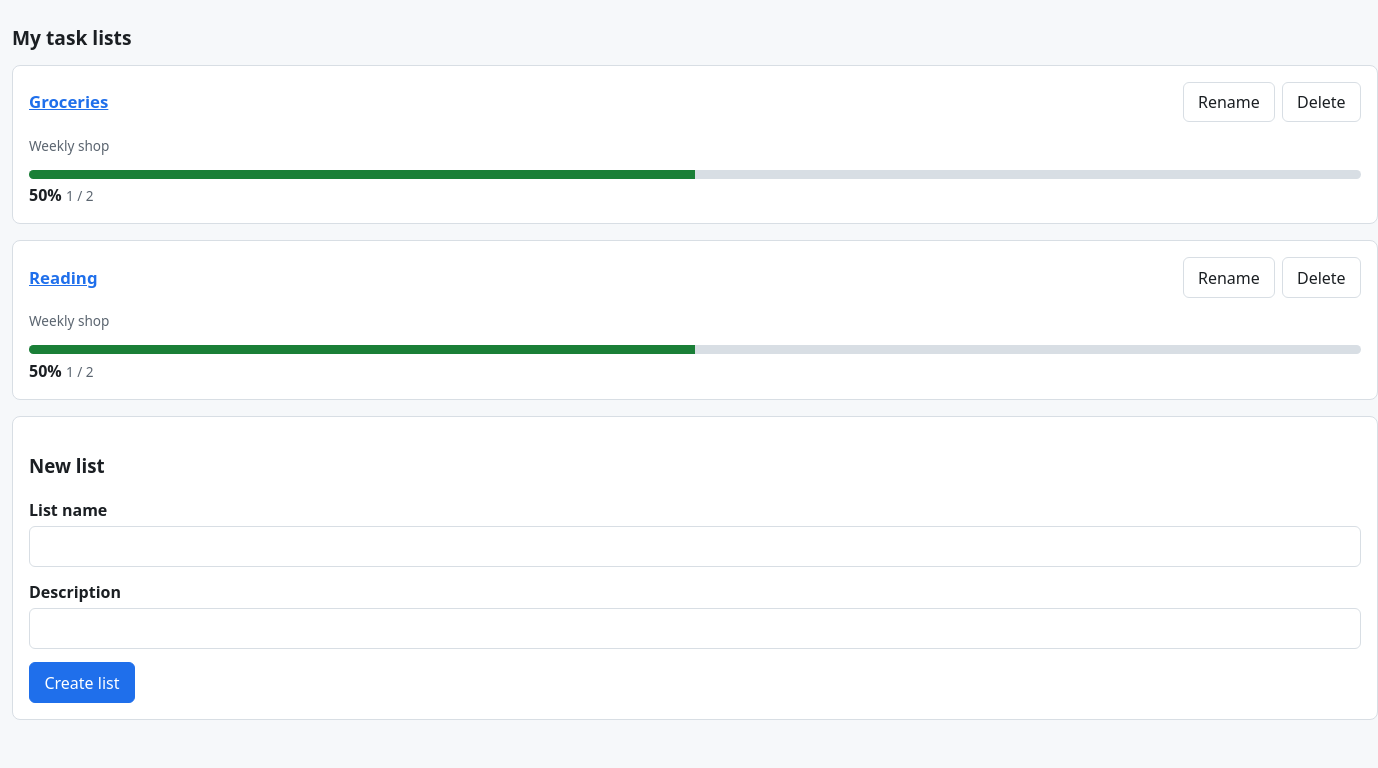
deleting a list › asks first, then deletes that id and drops the row
This screenshot has width=1378, height=768.
What coordinates should you click on to do the following:
click the button with aria-label "Delete Reading"
I would click on:
 (1321, 278)
Its box is left=1282, top=257, right=1361, bottom=298.
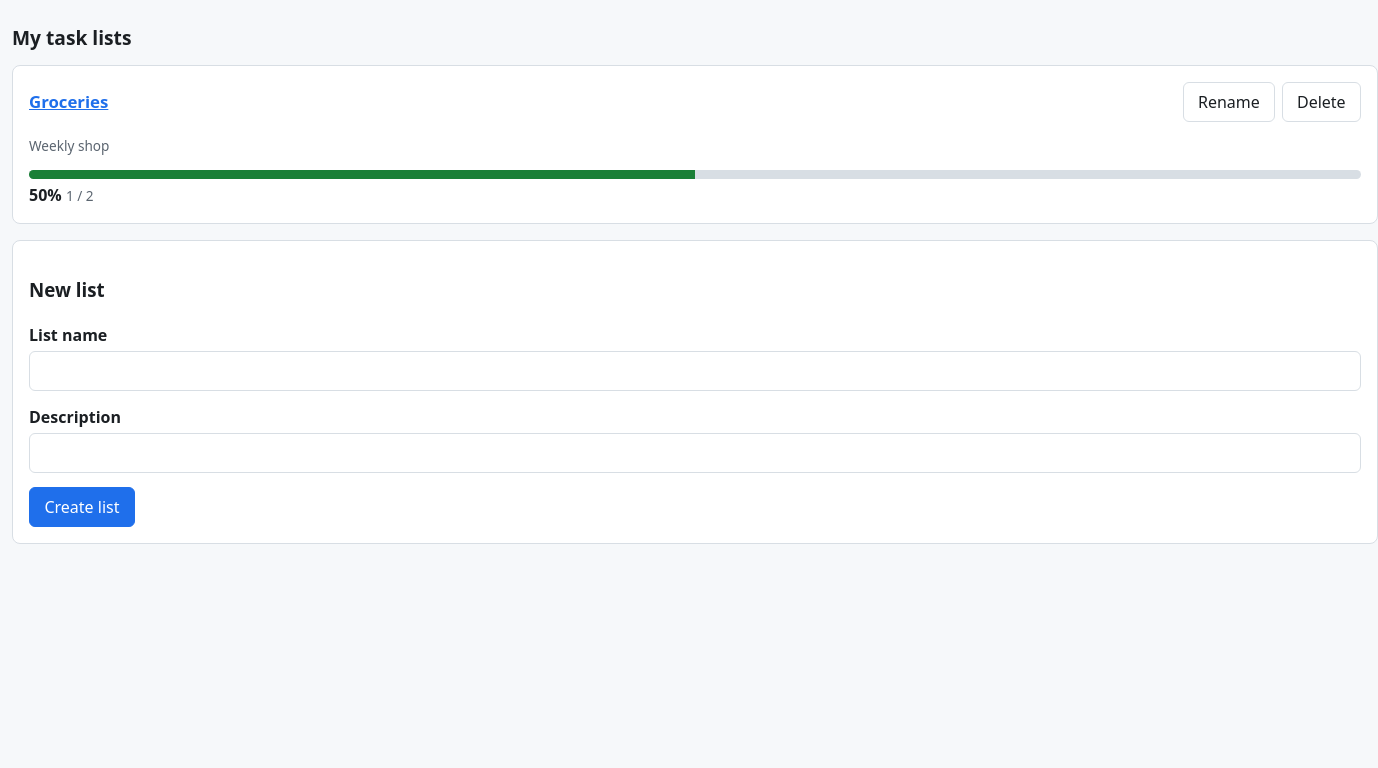
Check: the button "Groceries" is shown, box left=29, top=89, right=108, bottom=114
Check: the button "Reading" is gone
